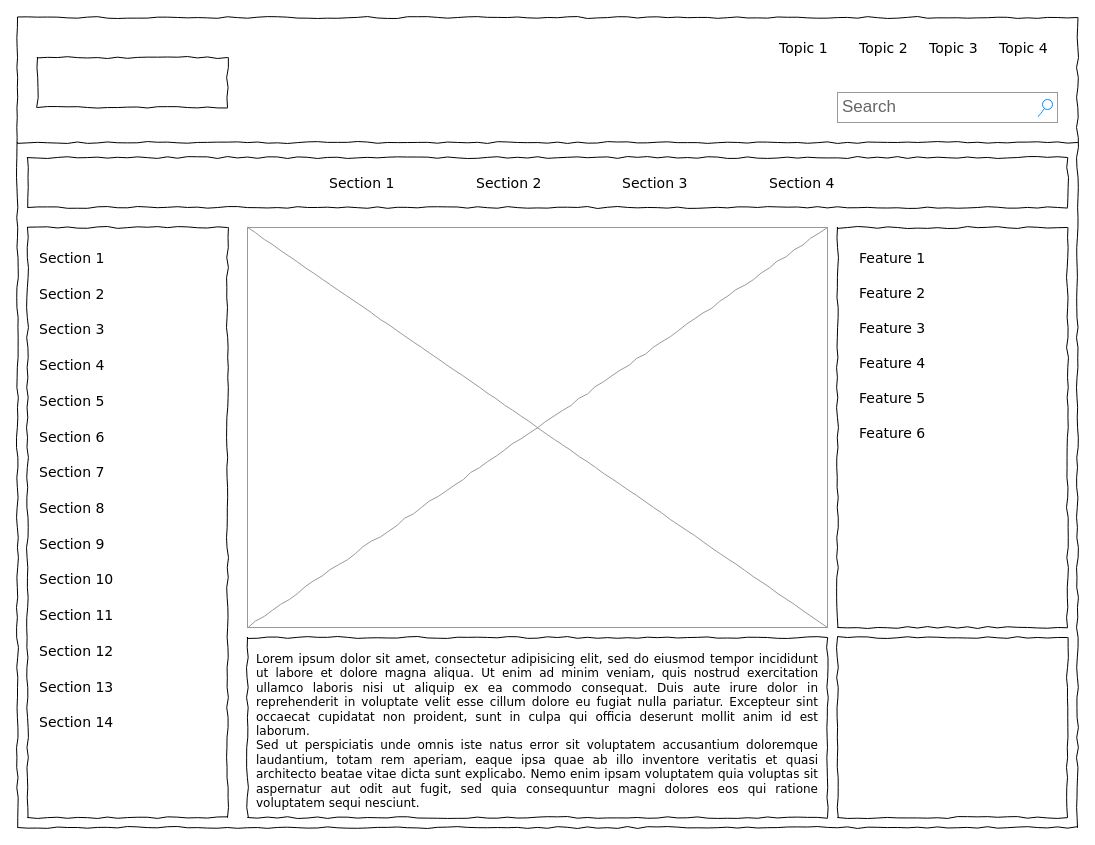
Some shapes in this 1095 by 845 pixel diagram are drawn without their labels. Each missing label, with the box of its shape:
Calasanz: (36, 56, 228, 108)
External Links: (836, 636, 1068, 818)
